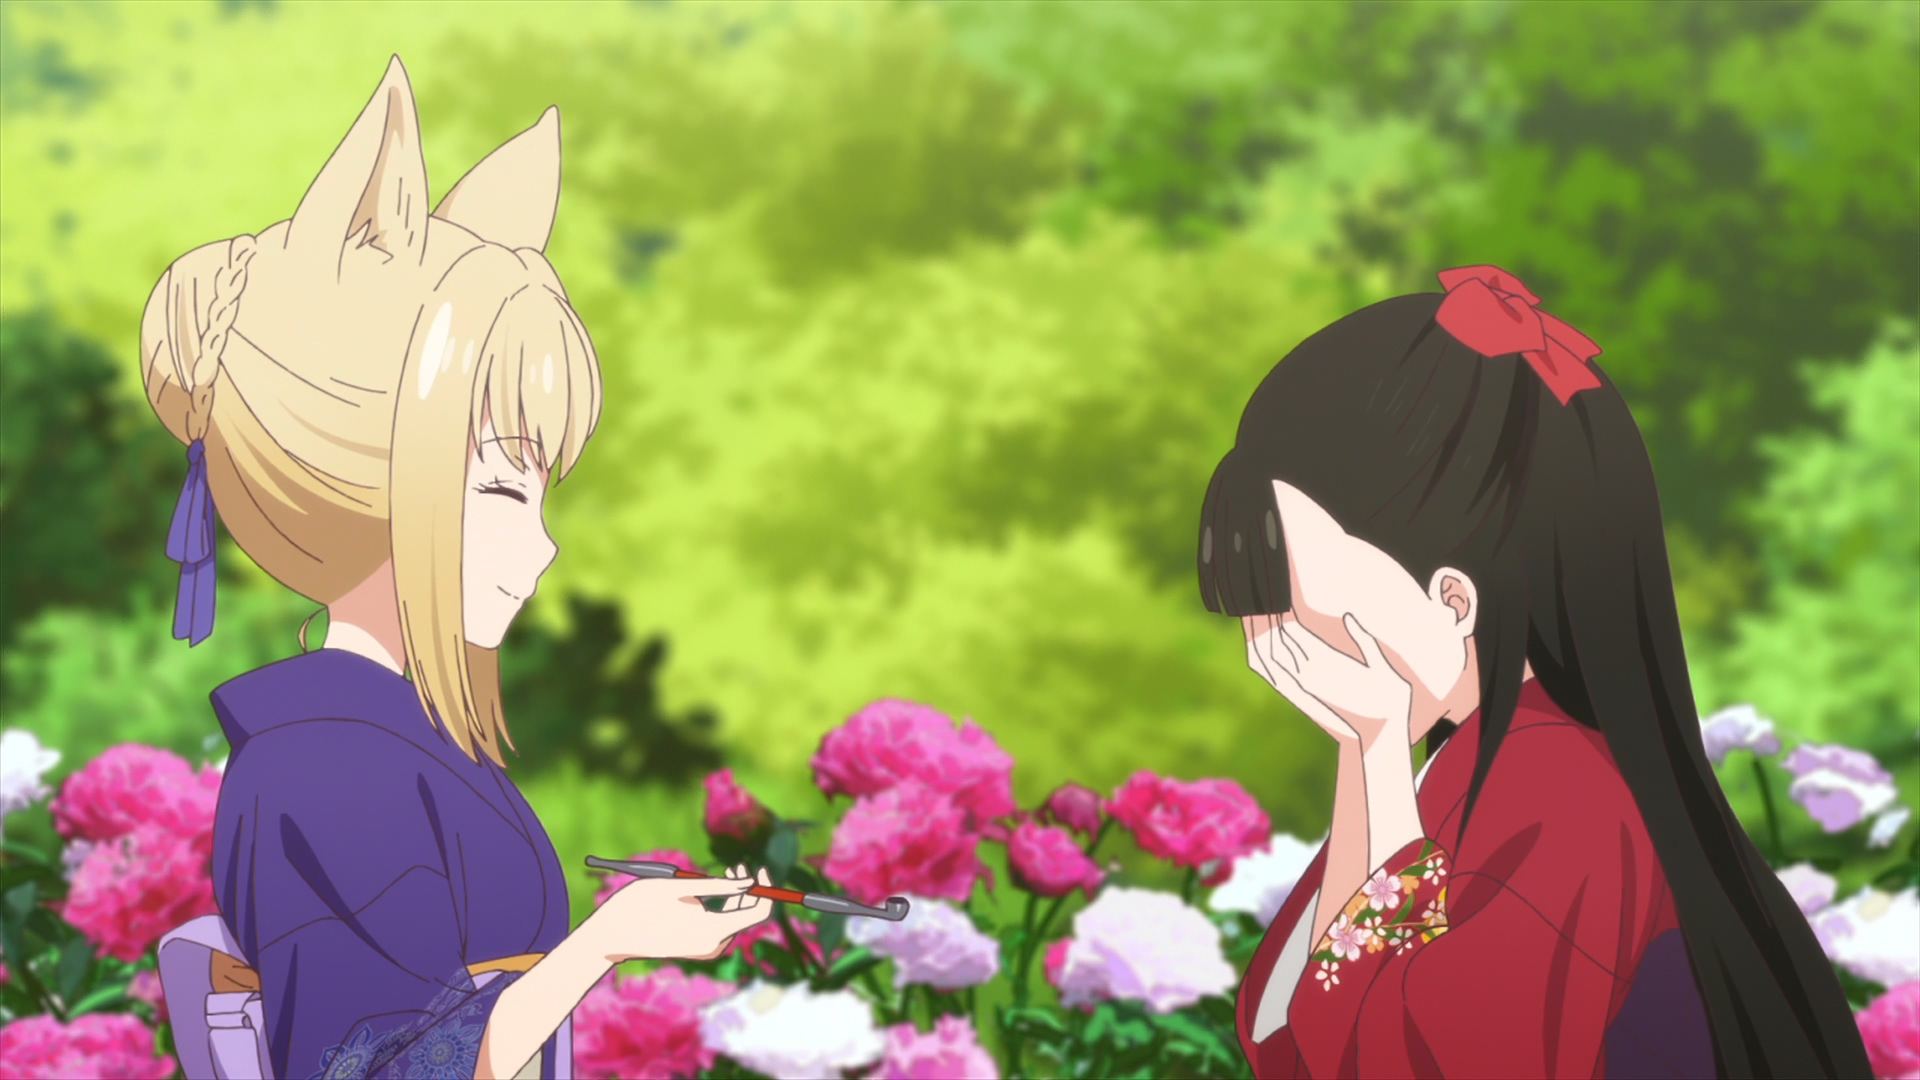其他: (1197, 266, 1867, 1080)
桐: (138, 51, 771, 1080)
